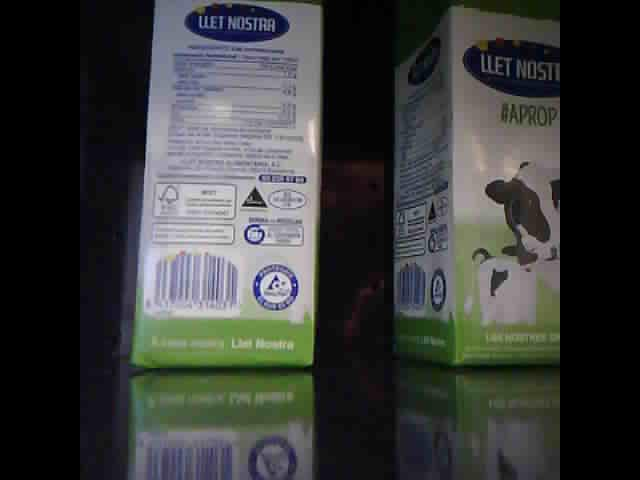leche: (130, 2, 326, 371), (388, 3, 561, 368)
